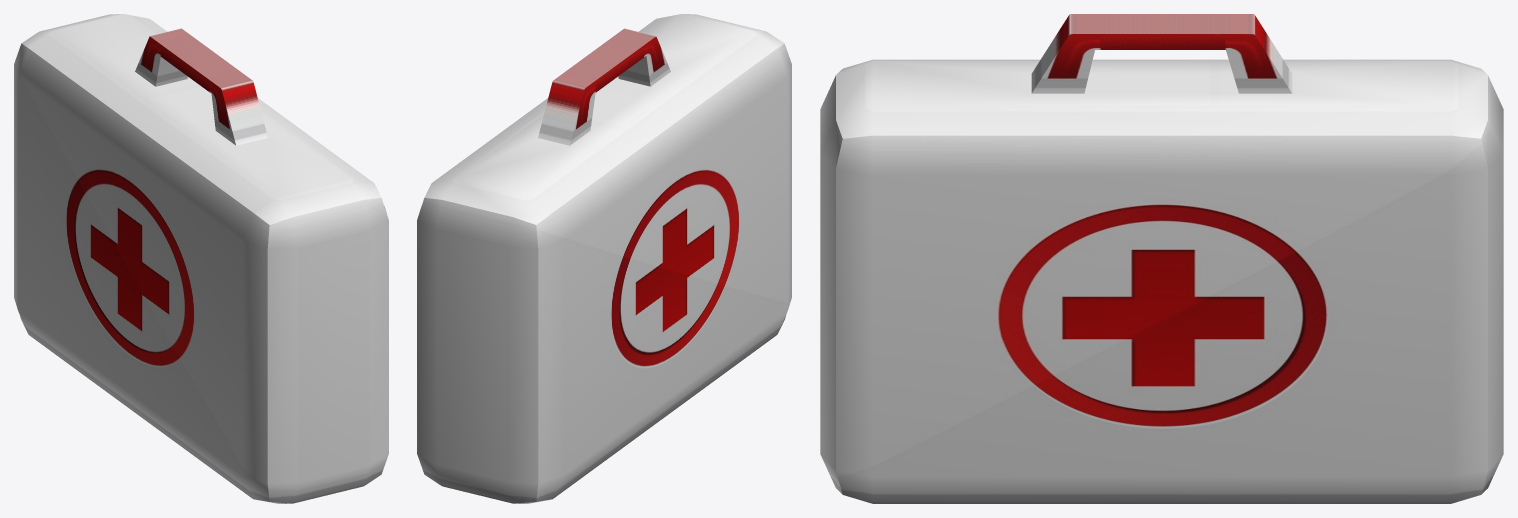
Rendered from Botiquin.fbx.
3 renders of one model, left to right at view 1: azimuth 30°, elevation 25°; view 2: azimuth 150°, elevation 25°; view 3: azimuth 270°, elevation 25°, orthographic. The views are drawn at different scales.
Parts seen in each view (by area): view 1: pCube1; view 2: pCube1; view 3: pCube1.
Boxes of the visible parts, x1=… form: pCube1: x1=14, y1=14, x2=388, y2=503; pCube1: x1=417, y1=14, x2=791, y2=503; pCube1: x1=820, y1=14, x2=1503, y2=503.
Bounding box in the file's own units: 0.1485 × 0.3544 × 0.4812.
1 material, 1 textured.
